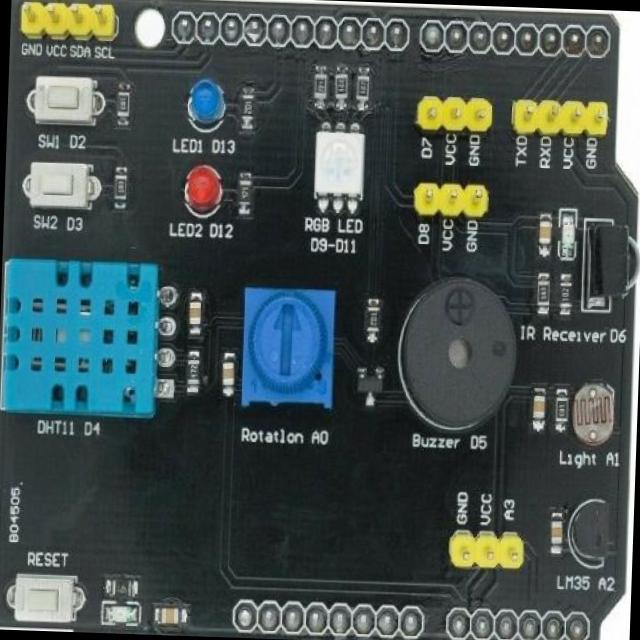IC: (0, 260, 175, 410)
LED: (310, 127, 365, 210), (594, 223, 640, 306), (184, 76, 223, 132), (177, 169, 224, 215), (558, 208, 576, 270), (102, 600, 136, 626)
capacitor: (546, 509, 568, 551), (184, 294, 204, 334), (216, 362, 232, 404), (538, 220, 553, 264), (533, 388, 548, 428), (160, 606, 183, 623)
connector: (513, 96, 612, 142), (11, 0, 124, 40), (419, 90, 496, 134), (448, 536, 520, 577), (414, 180, 488, 217)
potentiometer: (236, 283, 336, 416)
resistor: (352, 66, 372, 110), (102, 574, 144, 594), (114, 83, 130, 134), (366, 297, 382, 344), (332, 66, 348, 110), (236, 174, 254, 213), (308, 70, 328, 104), (240, 82, 254, 128), (556, 280, 575, 313), (535, 281, 551, 316), (112, 170, 128, 203), (552, 393, 568, 425), (186, 351, 199, 388)
transistor: (570, 496, 612, 572), (358, 361, 385, 414)
